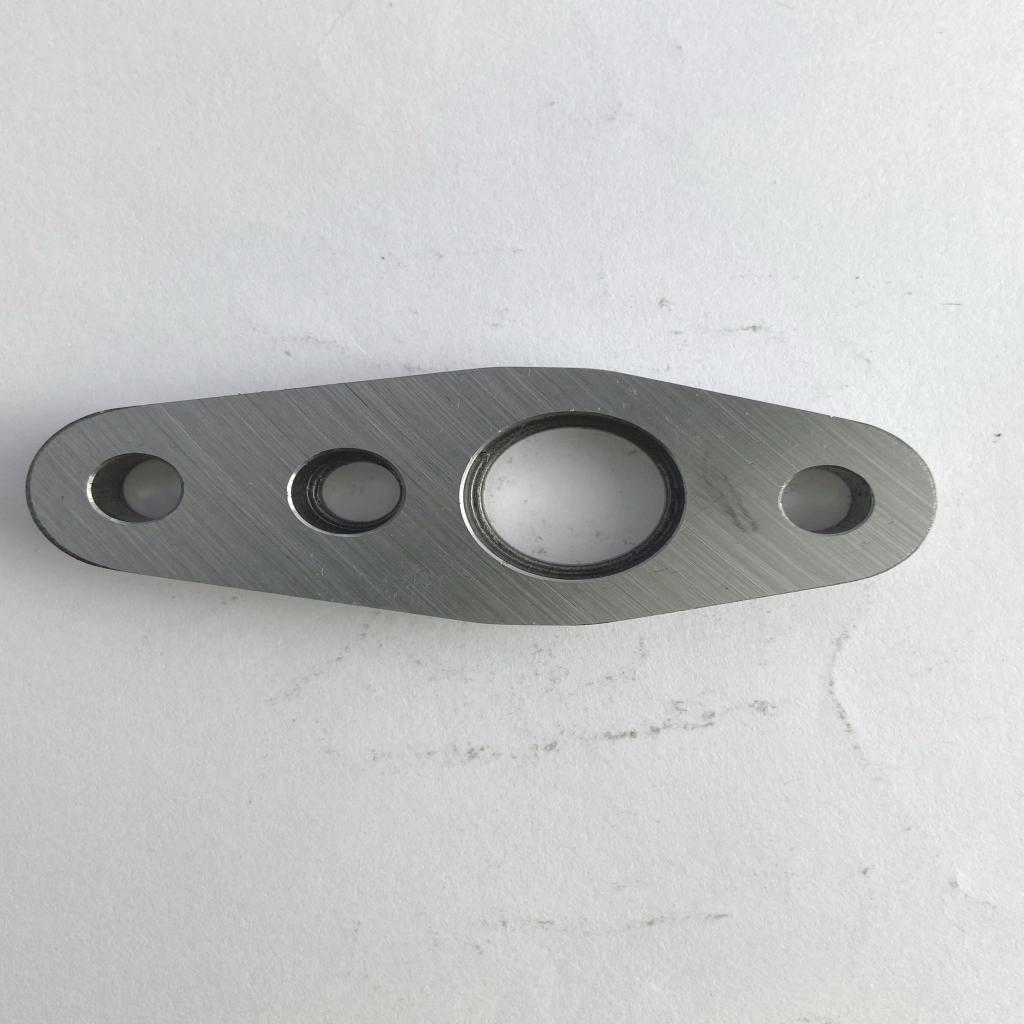chap: (745, 459, 758, 468)
lines: (715, 475, 754, 533)
